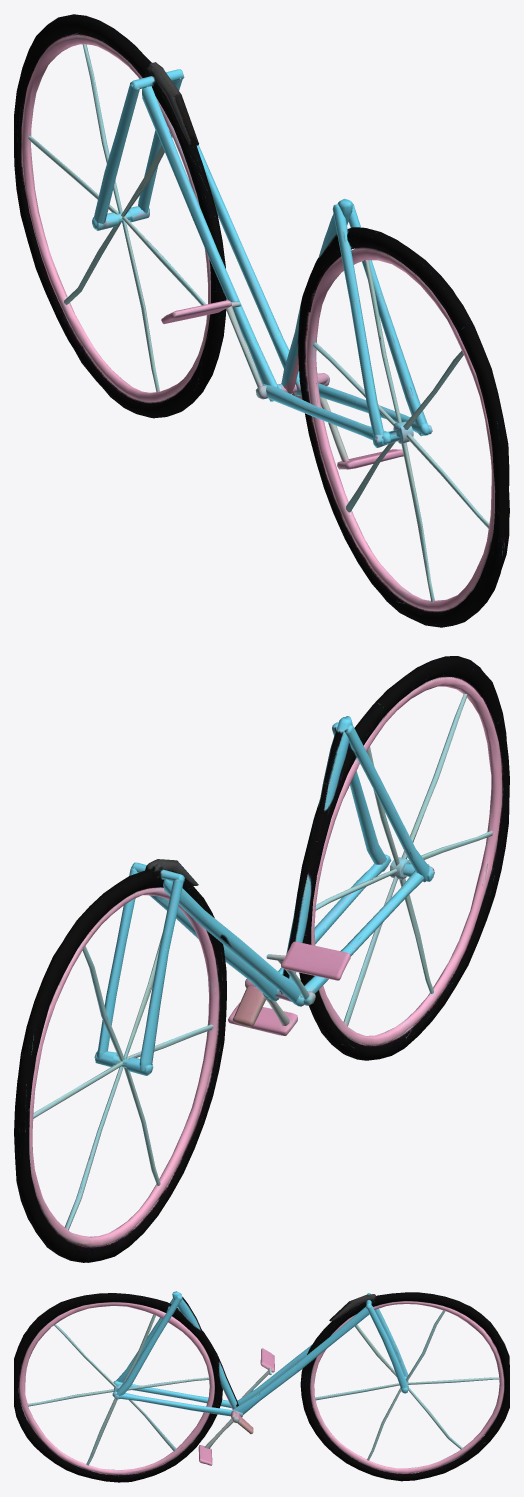
The model's file is bike-meshy-rig.glb.
The picture shows the model from 3 angles, top to bottom: view 1: azimuth 30°, elevation 25°; view 2: azimuth 150°, elevation 25°; view 3: azimuth 270°, elevation 25°; orthographic projection. The views are drawn at different scales.
Size of the model in its own units: 1.08 by 2.21 by 5.22.
Materials: 1 (1 with a texture image).
